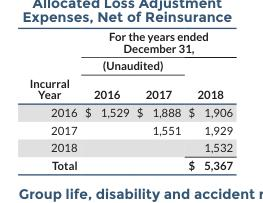table: (28, 29, 232, 171)
table column: (28, 29, 80, 171), (80, 29, 132, 171), (132, 29, 183, 171), (183, 29, 232, 171)
table column header: (28, 29, 232, 102)
table row: (28, 29, 232, 56), (28, 56, 232, 79), (28, 79, 232, 102), (28, 102, 232, 120), (28, 120, 232, 138), (28, 138, 232, 155), (28, 155, 232, 171)
table spanning cell: (80, 29, 232, 56), (28, 29, 80, 102), (80, 56, 183, 79), (183, 56, 232, 102)
